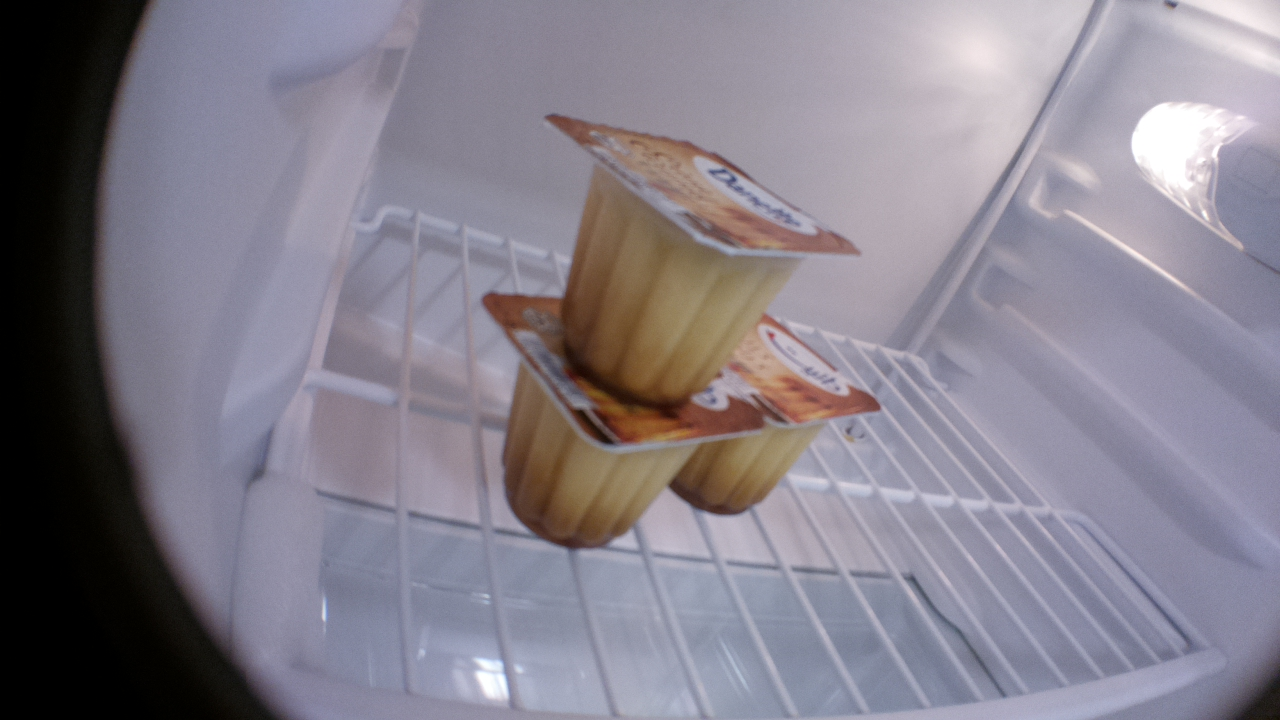caramel: (545, 106, 864, 413), (481, 290, 764, 552), (669, 325, 888, 518)
